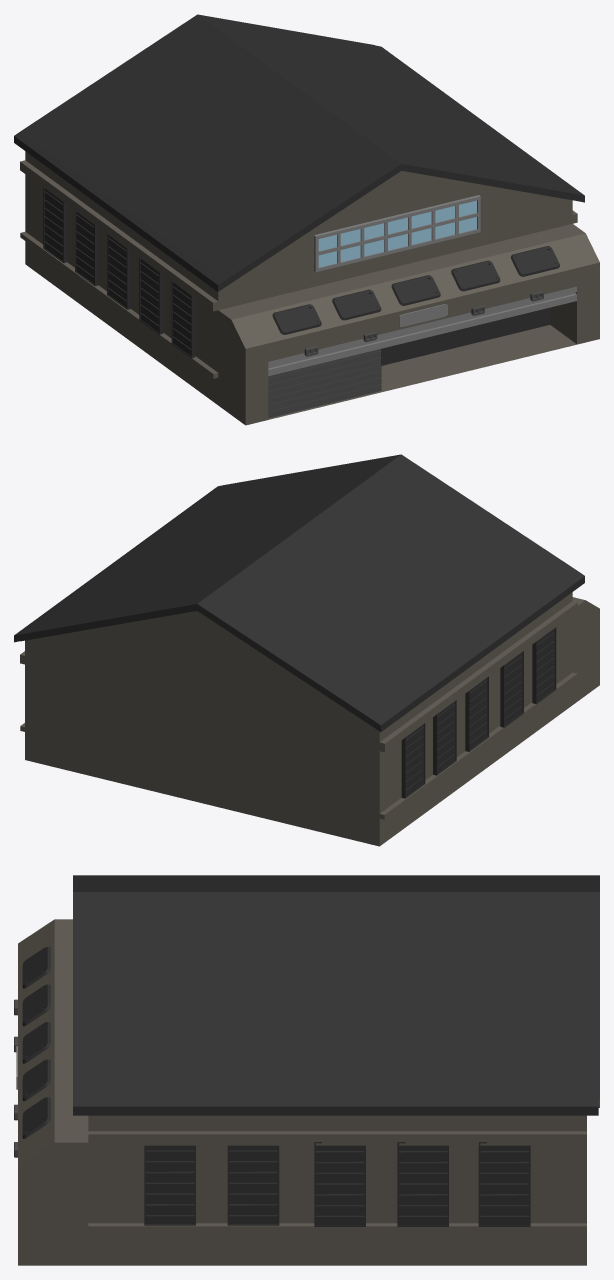
3 views of the same model, one above another, from view 1: azimuth 30°, elevation 25°; view 2: azimuth 150°, elevation 25°; view 3: azimuth 270°, elevation 25° (orthographic). The views are drawn at different scales.
Visible parts, largest first — view 1: Cube.158, Cube.159, Cube.161, Cube.160, Cube.177, Cube.178, Cube.179, Cube.180, Cube.181, Cube.167, Cube.168, Cube.169 (+3 smaller); view 2: Cube.158, Cube.177, Cube.181, Cube.178, Cube.179, Cube.180; view 3: Cube.158, Cube.176, Cube.173, Cube.175, Cube.174, Cube.172, Cube.167, Cube.169, Cube.168, Cube.170, Cube.171.
Boxes of the visible parts, x1,y1,x2,y2 form: Cube.158: (14,14,599,425); Cube.159: (314,195,480,272); Cube.161: (268,349,381,418); Cube.160: (268,286,576,376); Cube.177: (171,281,195,358); Cube.178: (139,258,163,334); Cube.179: (107,234,130,309); Cube.180: (75,211,98,286); Cube.181: (43,187,66,262); Cube.167: (272,304,321,334); Cube.168: (332,289,381,320); Cube.169: (391,275,440,305); Cube.158: (14,454,599,846); Cube.177: (532,627,556,704); Cube.181: (401,723,425,798); Cube.178: (500,651,523,727); Cube.179: (465,676,488,751); Cube.180: (433,700,456,775); Cube.158: (18,875,599,1265); Cube.176: (478,1142,530,1226); Cube.173: (227,1145,279,1225); Cube.175: (397,1142,448,1226); Cube.174: (314,1142,365,1226); Cube.172: (144,1145,195,1225); Cube.167: (22,947,50,988); Cube.169: (22,1022,50,1063); Cube.168: (22,984,50,1026); Cube.170: (22,1059,50,1101); Cube.171: (22,1097,50,1138).
Bounding box in the file's own units: 3091 × 1637 × 3309.
